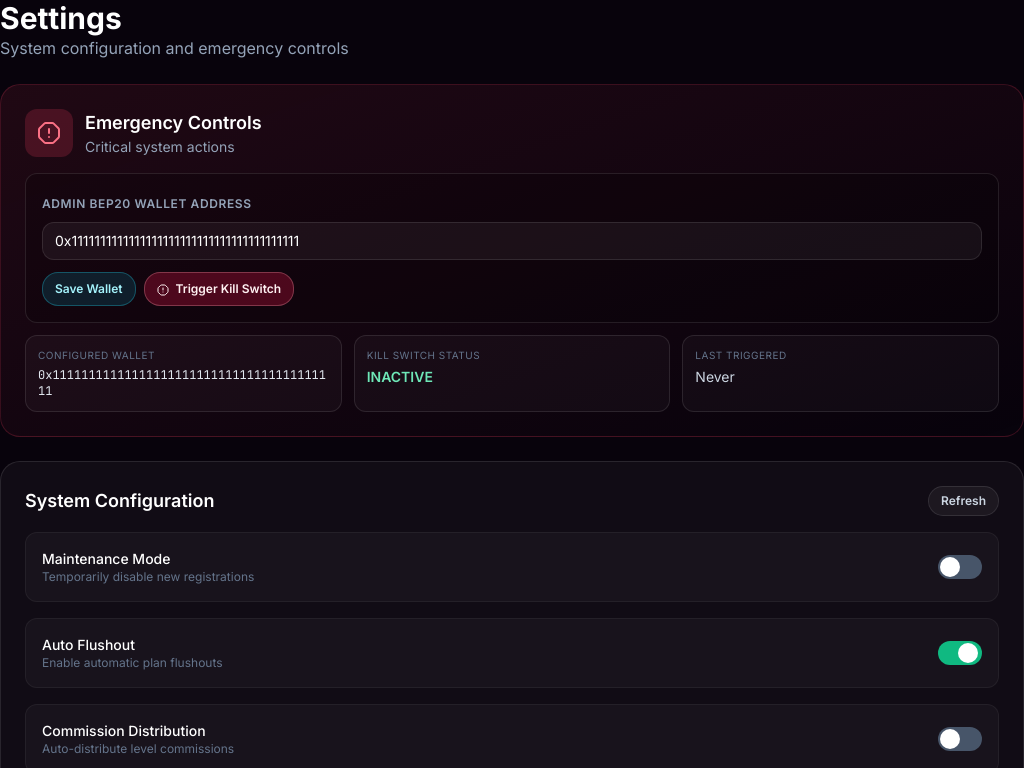
Test: AdminPanel settings integrations › loads backend system config and updates a toggle
This screenshot has width=1024, height=768.
Check: the field showing "0x1111111111111111111111111111111111111111" is shown, box [42,222,982,260]
Step 1. Click the button named "Toggle Maintenance Mode" → [960, 567], box [938,555,982,579]
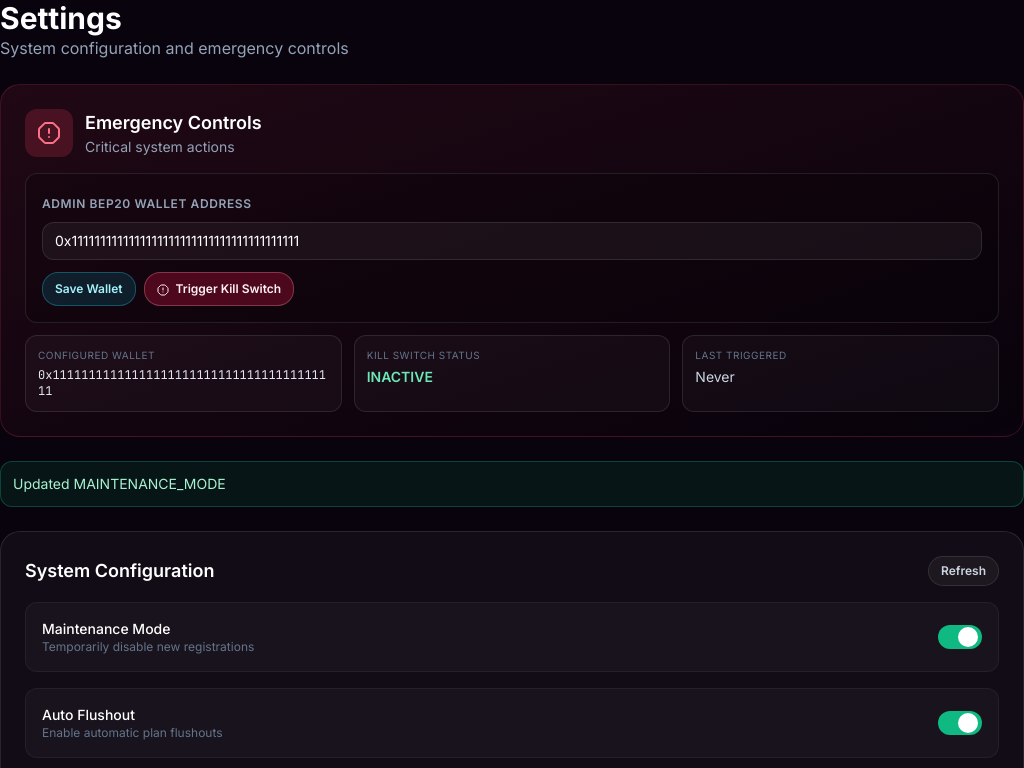
Check: the text "Updated MAINTENANCE_MODE" is shown, box [0,461,1023,507]
